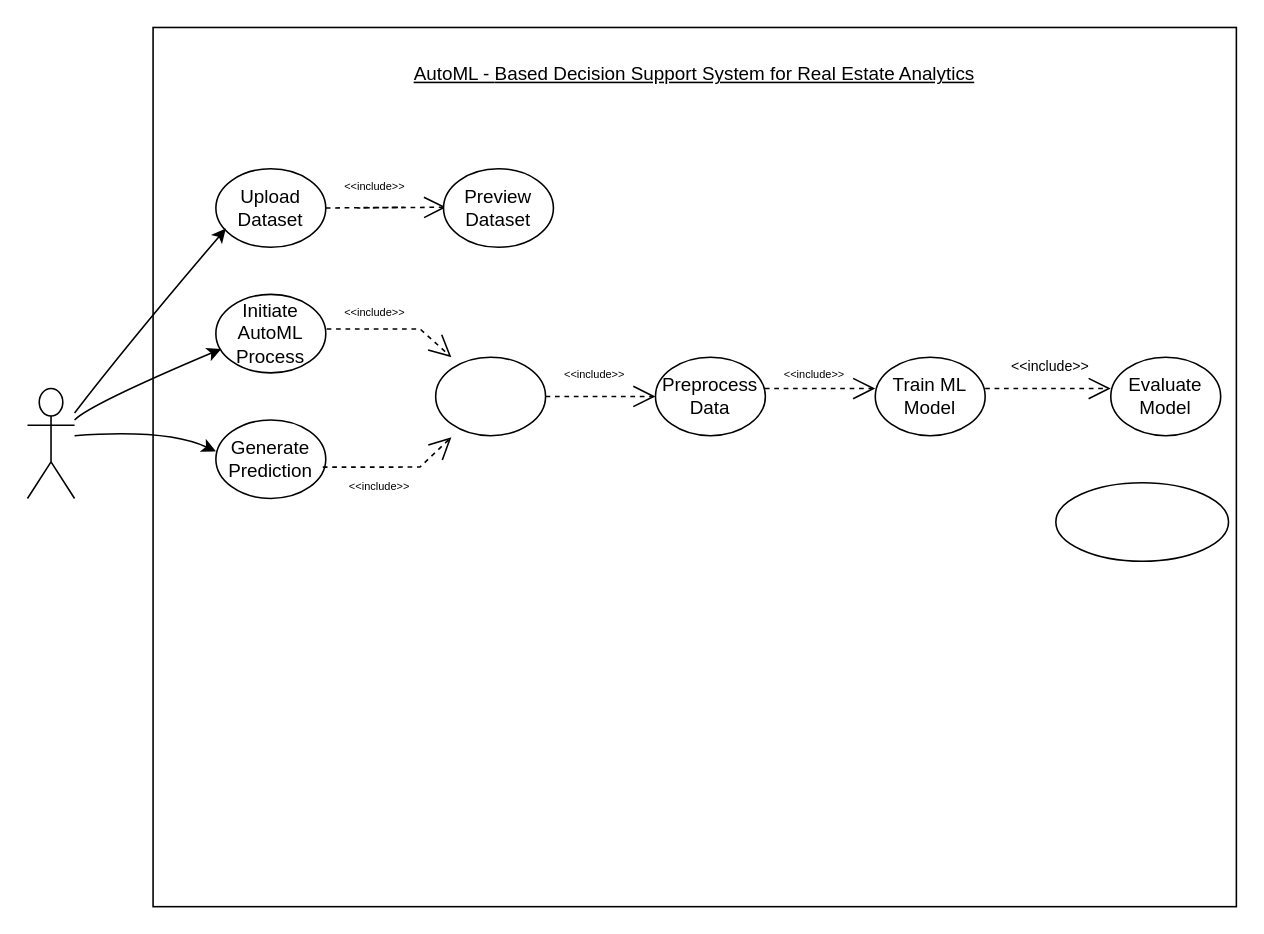
This 1264x934 diagram has some shape labels left out. The box of each missing label's shape, as (x1, y1, x2, y2) in pixels:
Select Best Performing Model: (1054, 481, 1229, 561)
Select Target Variable: (434, 356, 546, 436)
User: (26, 387, 75, 498)
